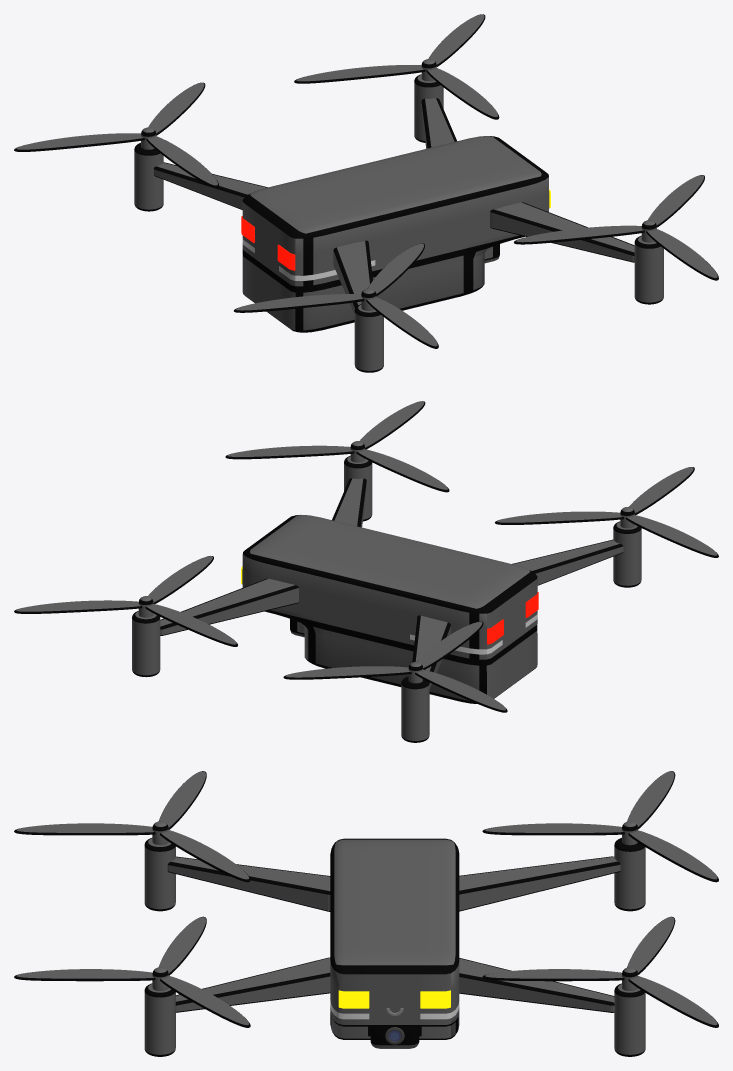
The model's file is Drone.fbx.
3 views of the same model, one above another, from view 1: azimuth 30°, elevation 25°; view 2: azimuth 150°, elevation 25°; view 3: azimuth 270°, elevation 25° (orthographic). The views are drawn at different scales.
Parts seen in each view (by area): view 1: Drone; view 2: Drone; view 3: Drone.
Boxes of the visible parts, <box> form: Drone: <box>14,14,718,372</box>; Drone: <box>14,401,718,742</box>; Drone: <box>14,771,718,1056</box>.
Size of the model in its own units: 788 by 169 by 918.
